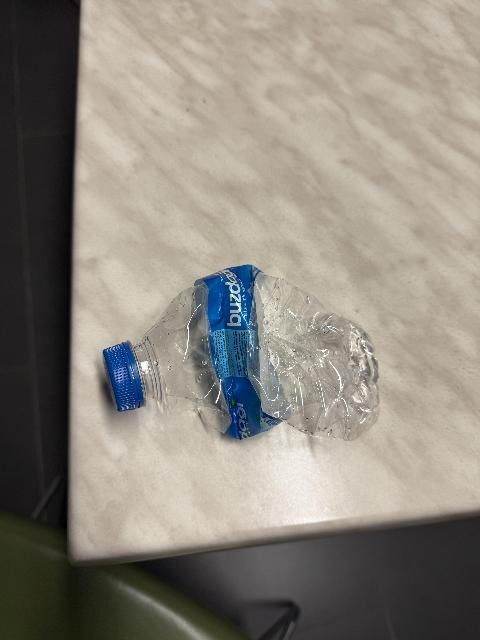Plastik: (94, 267, 379, 438), (201, 270, 268, 425), (103, 350, 149, 404)
